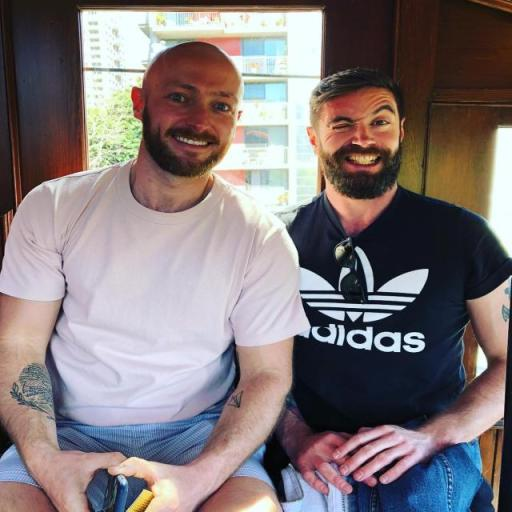Adidas: (296, 240, 430, 356)
